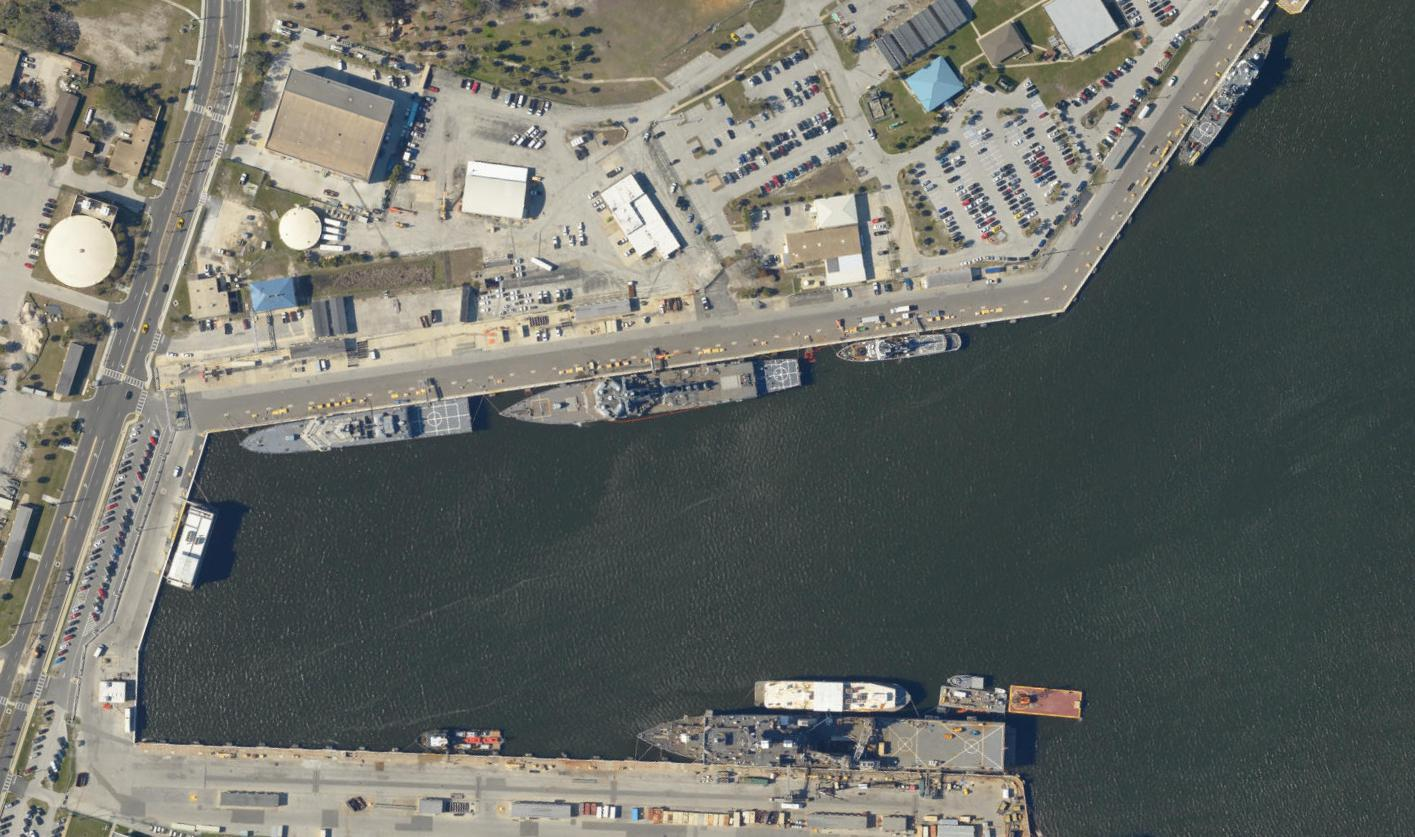amphiby: (620, 686, 1025, 788)
fregate: (495, 342, 810, 430)
patrol: (226, 391, 479, 461)
